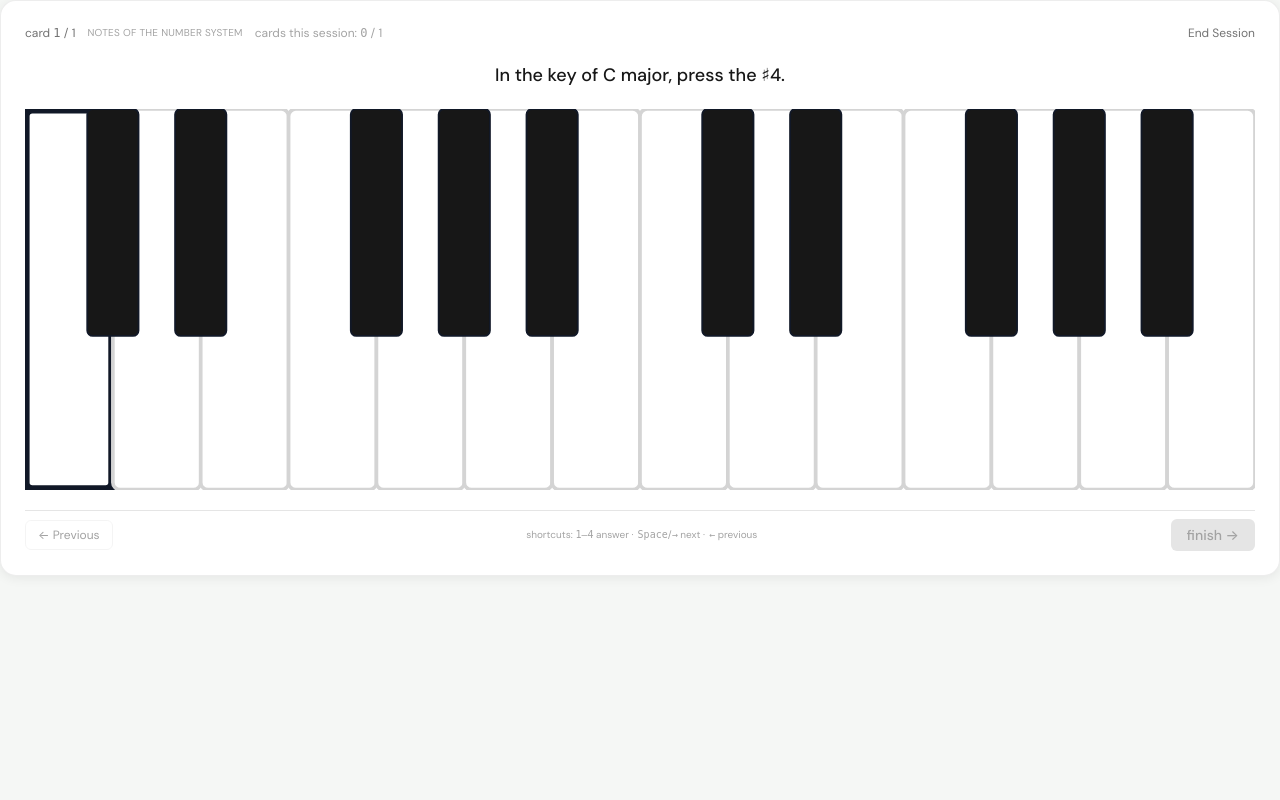
the correct-answer line after a wrong press › names both spellings of a pressed tritone, on a key that keeps its gloss
Click the icon named "Answer keyboard": {"x": 640, "y": 299} [25,109,1255,490]
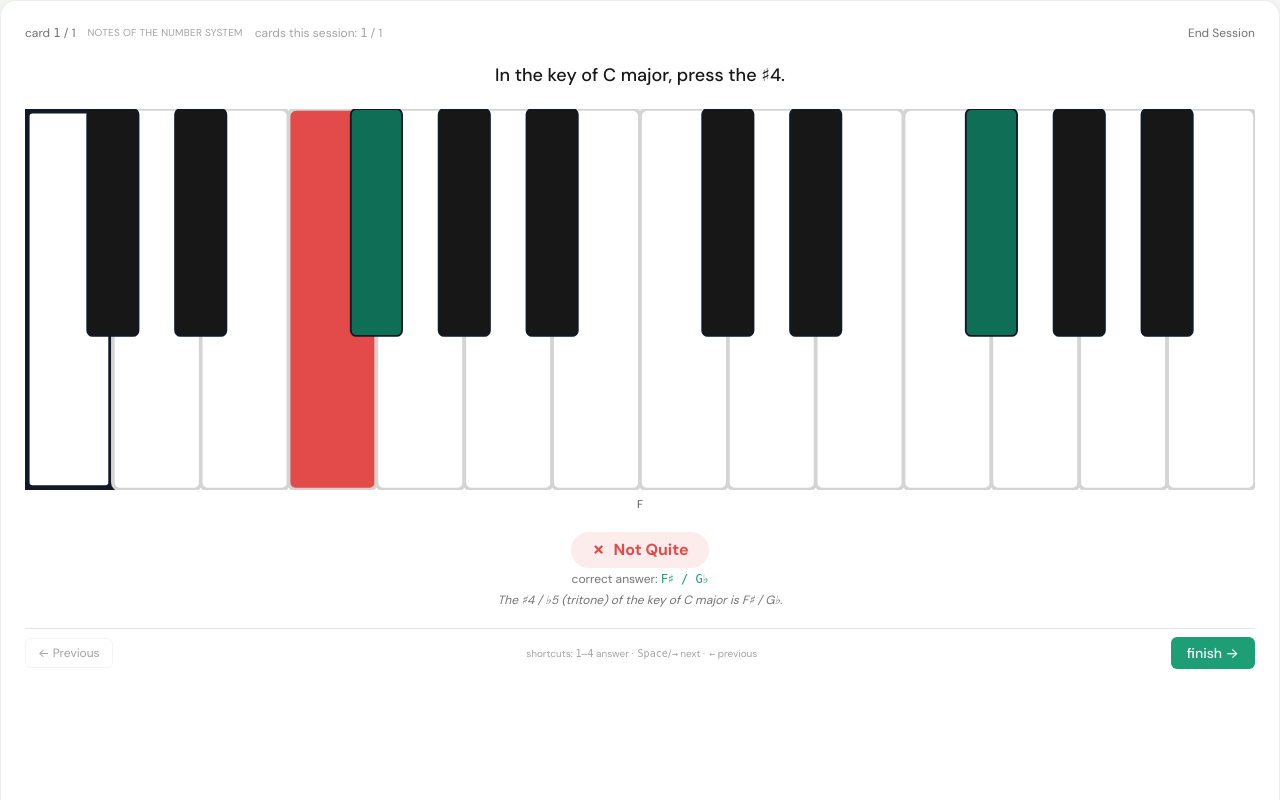
Expected: the text with test id "correct-answer" reads "F♯ / G♭", [661,572,708,586]
